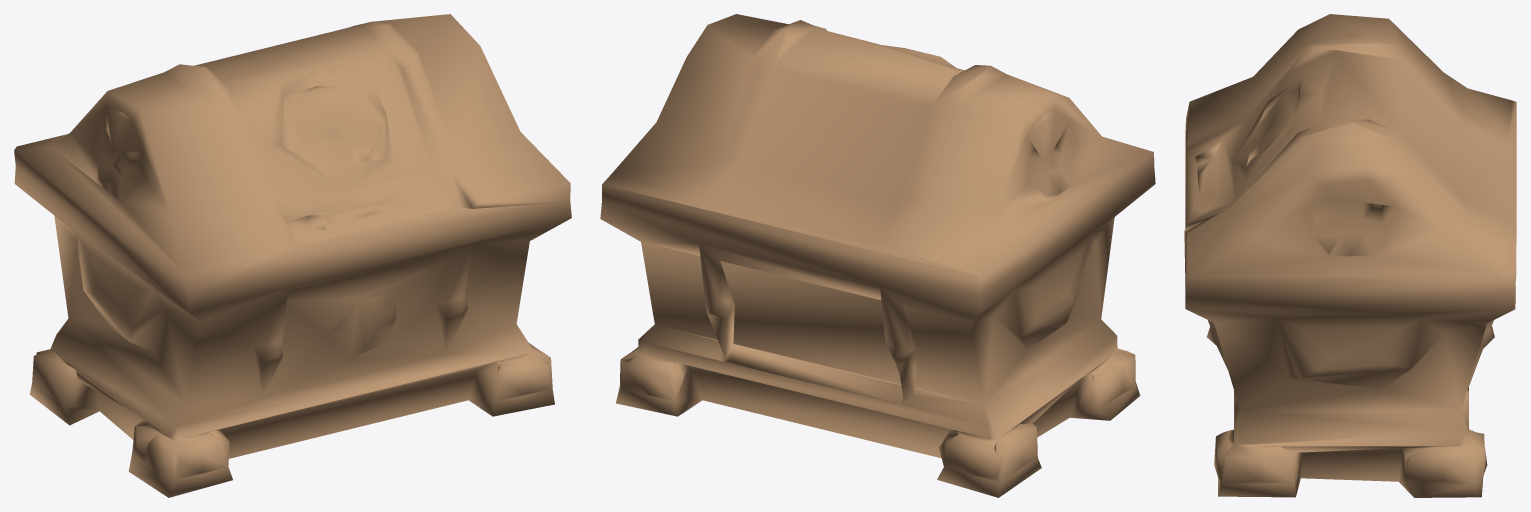
3 renders of one model, left to right at view 1: azimuth 30°, elevation 25°; view 2: azimuth 150°, elevation 25°; view 3: azimuth 270°, elevation 25°, orthographic. The views are drawn at different scales.
Parts seen in each view (by area): view 1: pirate-chest; view 2: pirate-chest; view 3: pirate-chest.
Boxes of the visible parts, box(x1,y1,x2,y2) form: pirate-chest: box(14, 14, 571, 497); pirate-chest: box(600, 14, 1155, 497); pirate-chest: box(1184, 14, 1516, 497).
Size of the model in its own units: 0.5013 by 0.4218 by 0.386.
